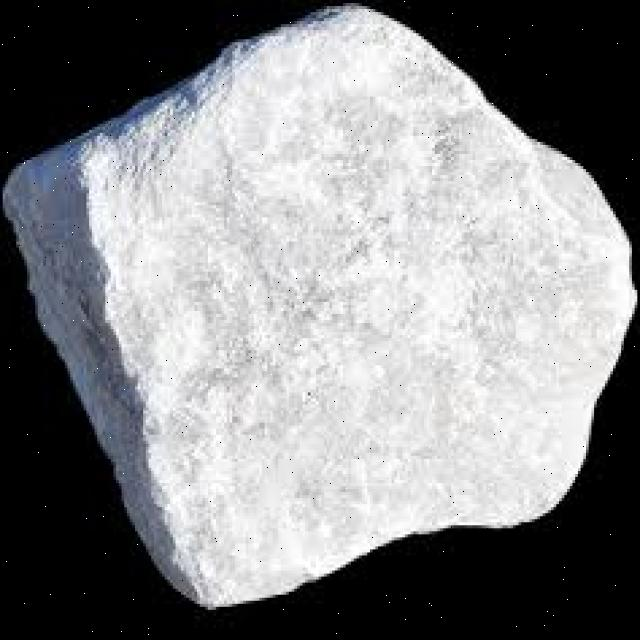Metamorphic: (8, 6, 632, 604)
